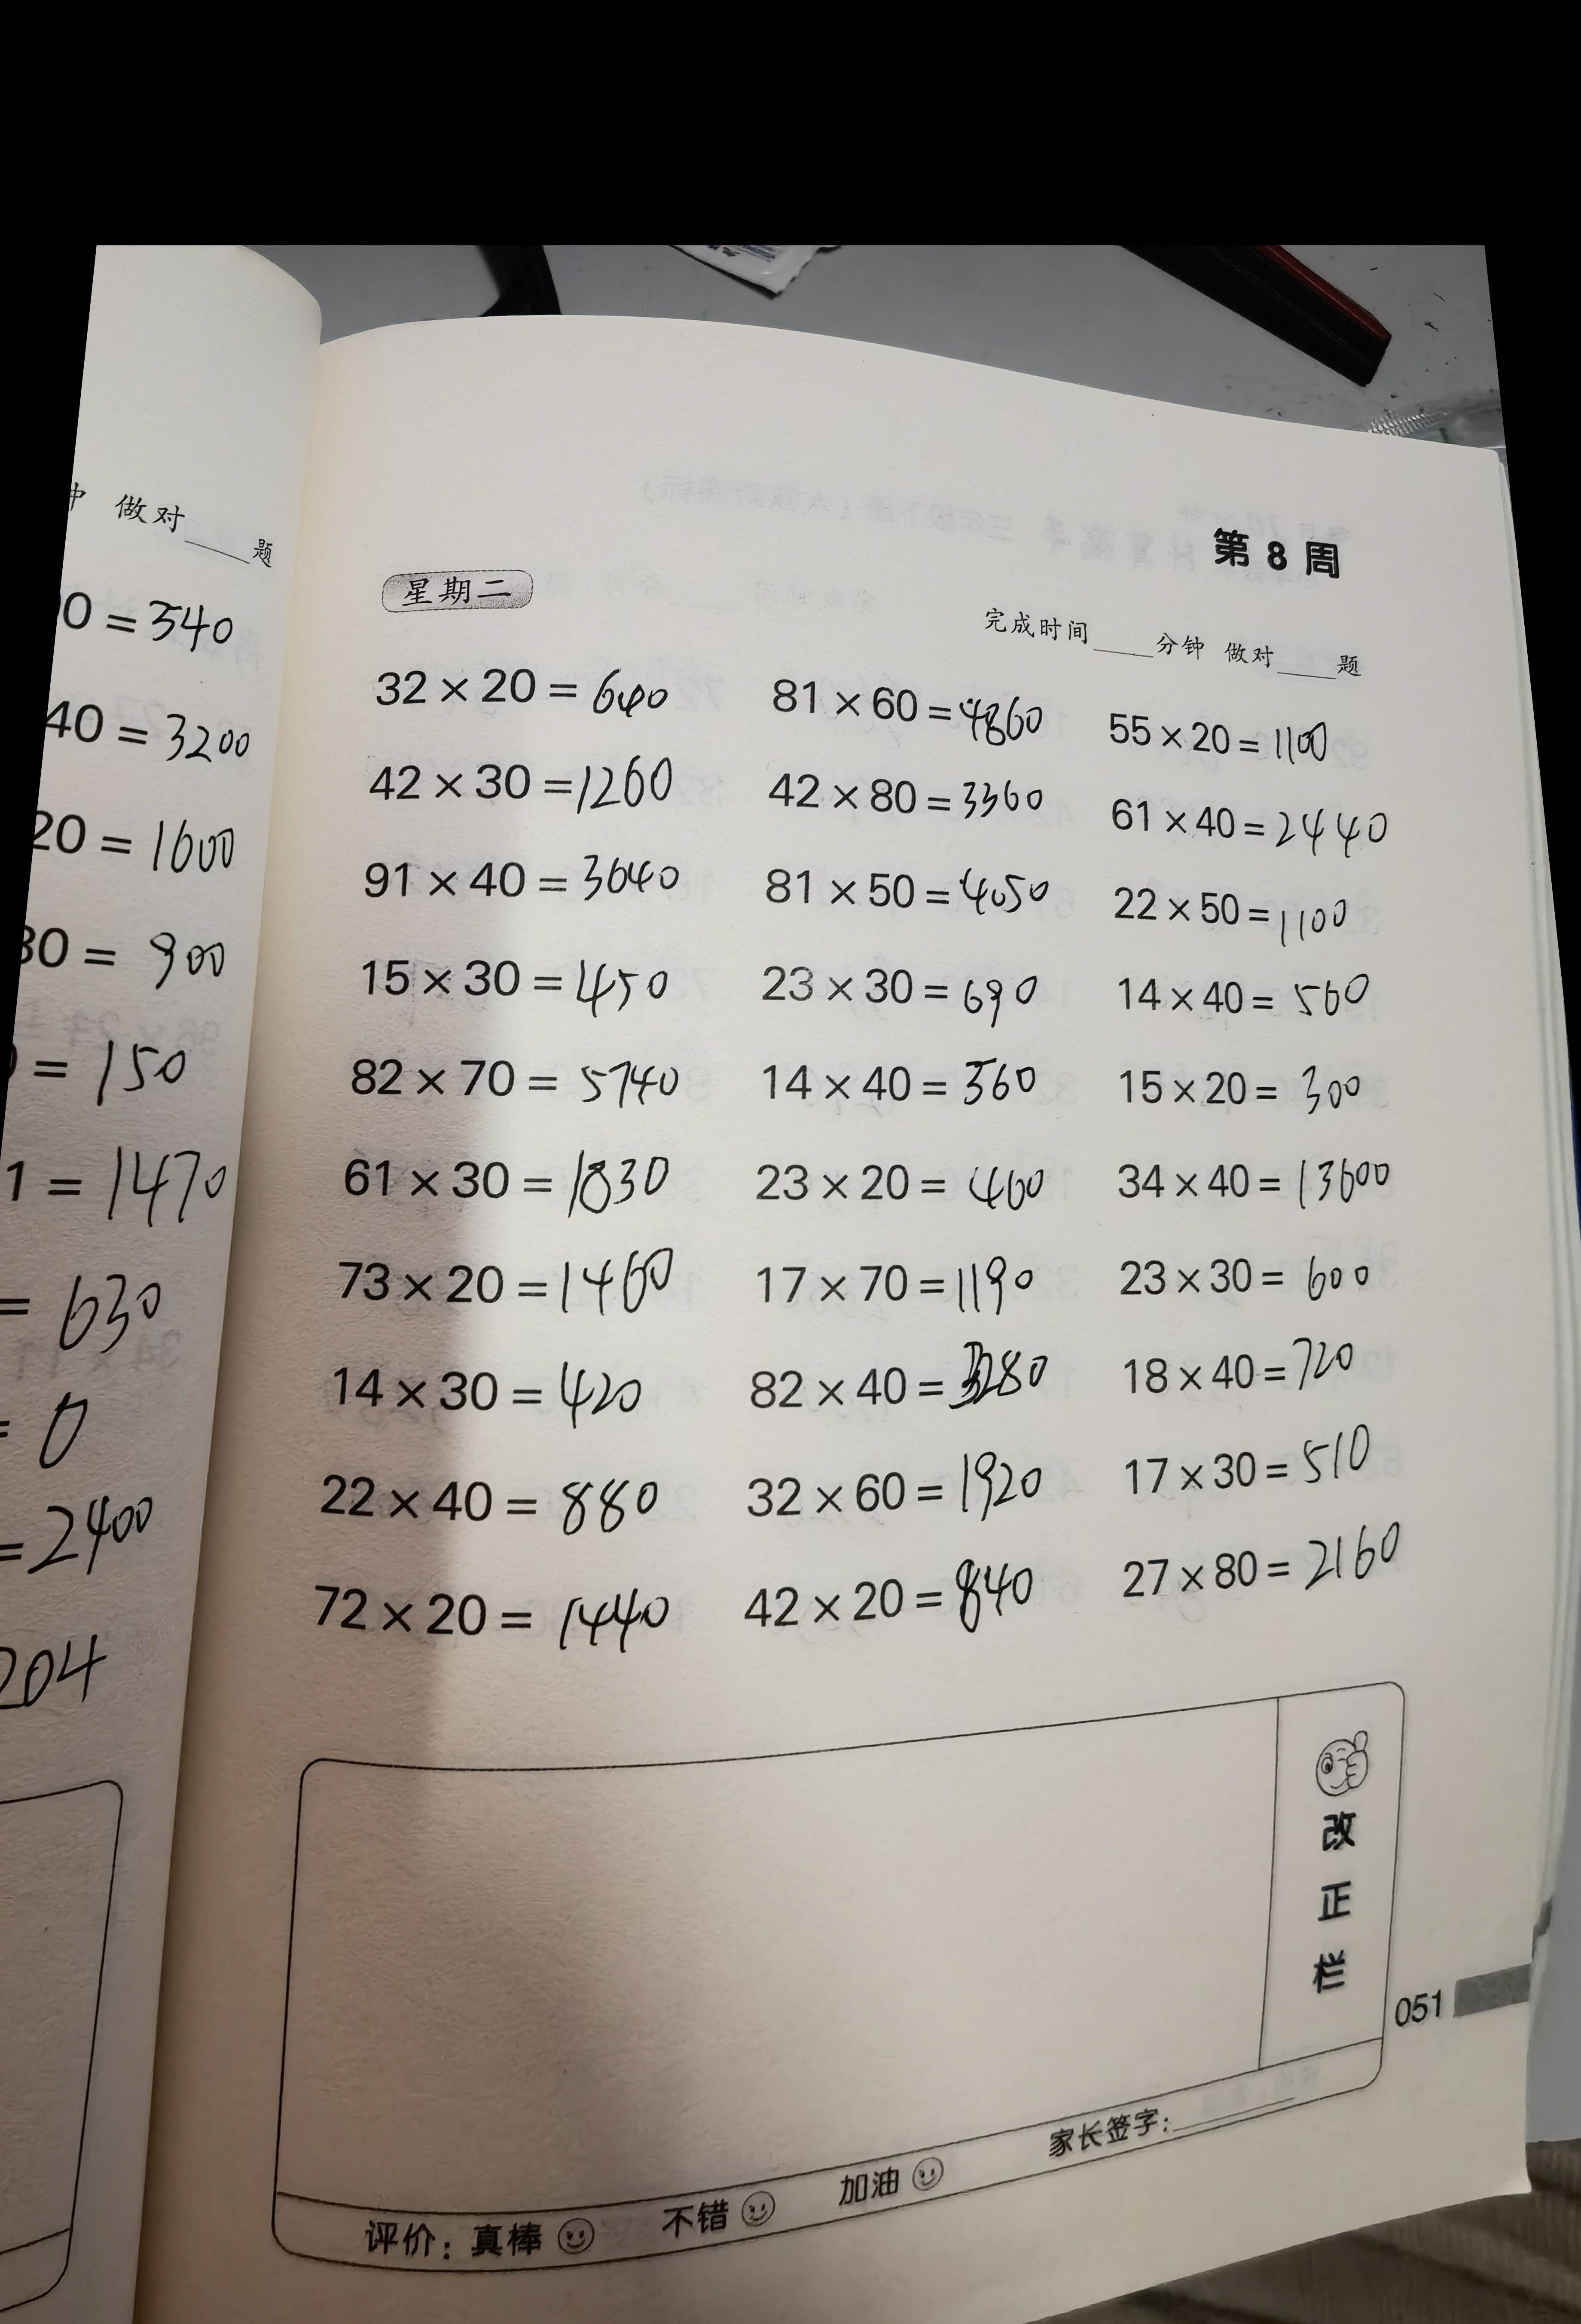equation: (265, 1551, 692, 1662), (321, 1128, 683, 1228), (281, 1451, 676, 1542), (314, 1239, 723, 1327), (753, 635, 1053, 752), (1105, 1525, 1424, 1631), (720, 1563, 1075, 1657), (319, 1350, 685, 1438), (353, 1038, 702, 1122), (725, 1442, 1068, 1525), (349, 939, 699, 1020), (351, 648, 685, 732), (748, 849, 1075, 935), (367, 828, 686, 914), (729, 1147, 1073, 1223), (1108, 1228, 1420, 1311), (358, 748, 695, 822), (752, 1244, 1064, 1323), (1096, 1320, 1412, 1398), (748, 1050, 1068, 1124), (1090, 783, 1401, 859), (727, 1353, 1055, 1424), (1106, 1408, 1405, 1481), (746, 962, 1073, 1027), (1110, 873, 1373, 953), (1105, 965, 1422, 1029), (1117, 1052, 1399, 1122), (762, 766, 1062, 831), (1119, 1149, 1410, 1212), (1110, 693, 1348, 766)
